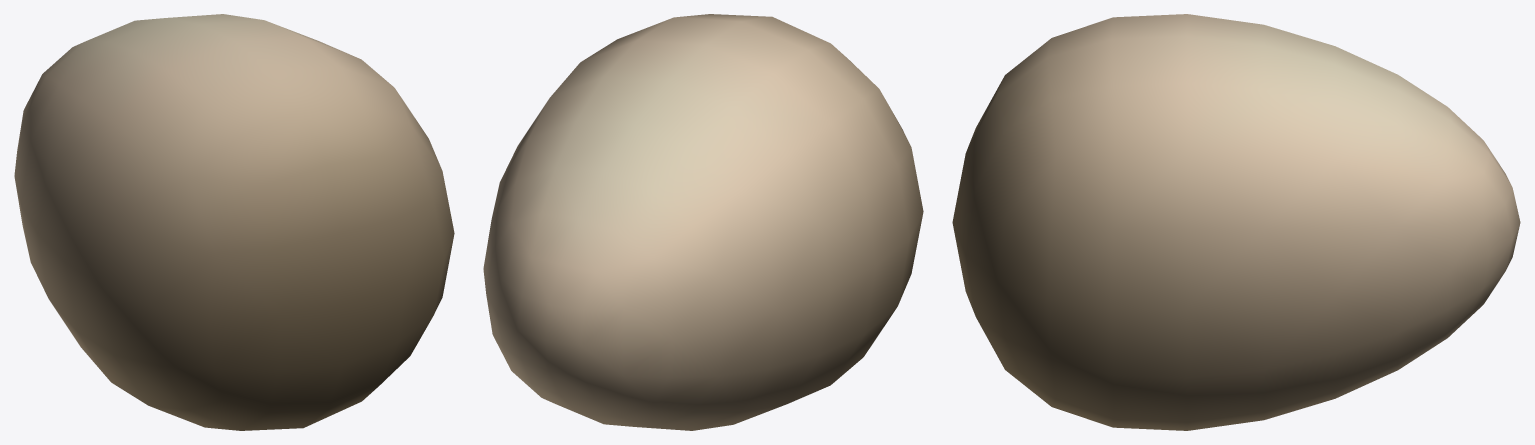
3 renders of one model, left to right at view 1: azimuth 30°, elevation 25°; view 2: azimuth 150°, elevation 25°; view 3: azimuth 270°, elevation 25°, orthographic. The views are drawn at different scales.
Visible parts, largest first — view 1: base.011; view 2: base.011; view 3: base.011.
Boxes of the visible parts, bbox=[...] form: base.011: bbox=[14, 14, 454, 430]; base.011: bbox=[483, 14, 923, 430]; base.011: bbox=[952, 14, 1520, 430].
Bounding box in the file's own units: 0.3617 × 0.3617 × 0.5.
